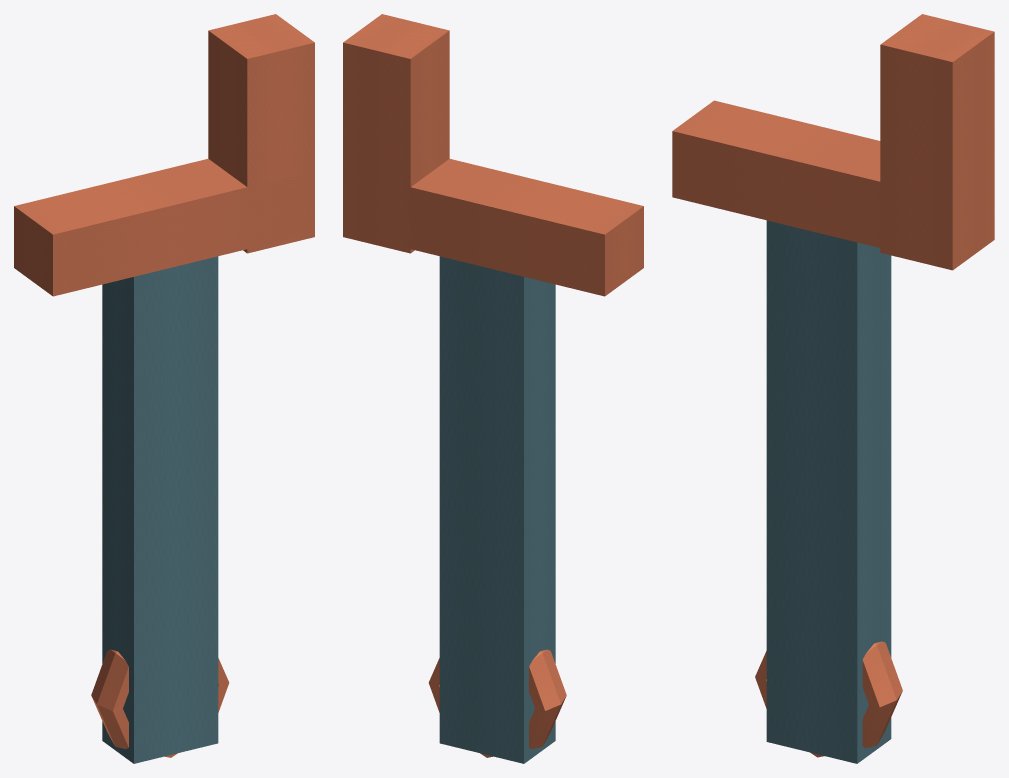
File: atlas100-s044-a05.lod2.glb
3 views of the same model, side by side, from view 1: azimuth 30°, elevation 25°; view 2: azimuth 150°, elevation 25°; view 3: azimuth 330°, elevation 25° (orthographic). The views are drawn at different scales.
Visible parts, largest first — view 1: atlas100-s044-a05:part-000, atlas100-s044-a05:part-003, atlas100-s044-a05:part-002, atlas100-s044-a05:part-004; view 2: atlas100-s044-a05:part-000, atlas100-s044-a05:part-003, atlas100-s044-a05:part-002, atlas100-s044-a05:part-004; view 3: atlas100-s044-a05:part-000, atlas100-s044-a05:part-002, atlas100-s044-a05:part-003, atlas100-s044-a05:part-004.
Part boxes in pixels (<box>): atlas100-s044-a05:part-000: <box>102,256,218,763</box>; atlas100-s044-a05:part-003: <box>14,158,306,296</box>; atlas100-s044-a05:part-002: <box>208,14,314,253</box>; atlas100-s044-a05:part-004: <box>91,649,229,757</box>; atlas100-s044-a05:part-000: <box>439,256,555,763</box>; atlas100-s044-a05:part-003: <box>351,158,643,296</box>; atlas100-s044-a05:part-002: <box>343,14,449,253</box>; atlas100-s044-a05:part-004: <box>428,649,566,757</box>; atlas100-s044-a05:part-000: <box>766,220,891,763</box>; atlas100-s044-a05:part-002: <box>880,14,994,270</box>; atlas100-s044-a05:part-003: <box>672,100,943,260</box>; atlas100-s044-a05:part-004: <box>755,641,902,757</box>.
Bounding box in the file's own units: 0.3385 × 0.8572 × 0.0874.
Materials: 2 (2 with a texture image).
